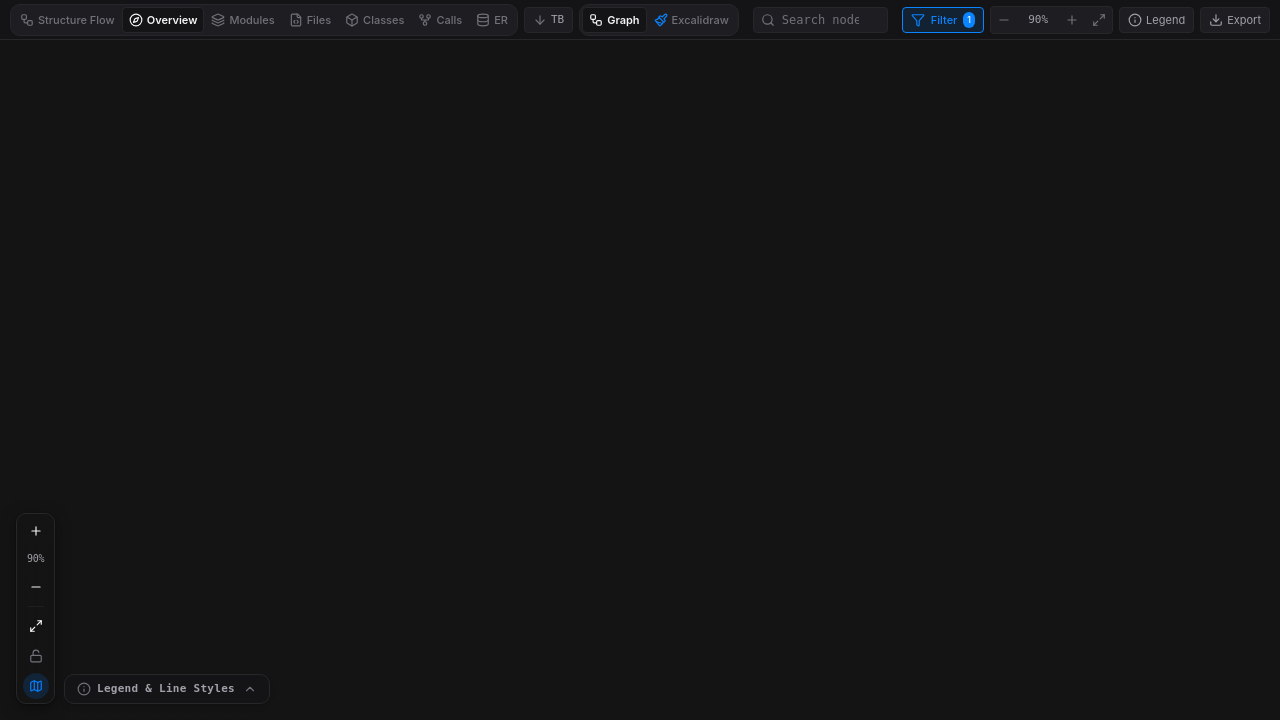
Test: ArchitectureView React Flow Integration › export menu disables PDF option while PDF generation is a stub
This screenshot has width=1280, height=720.
Click the button with aria-label "export diagram": (1235, 20) [1200,6,1270,32]
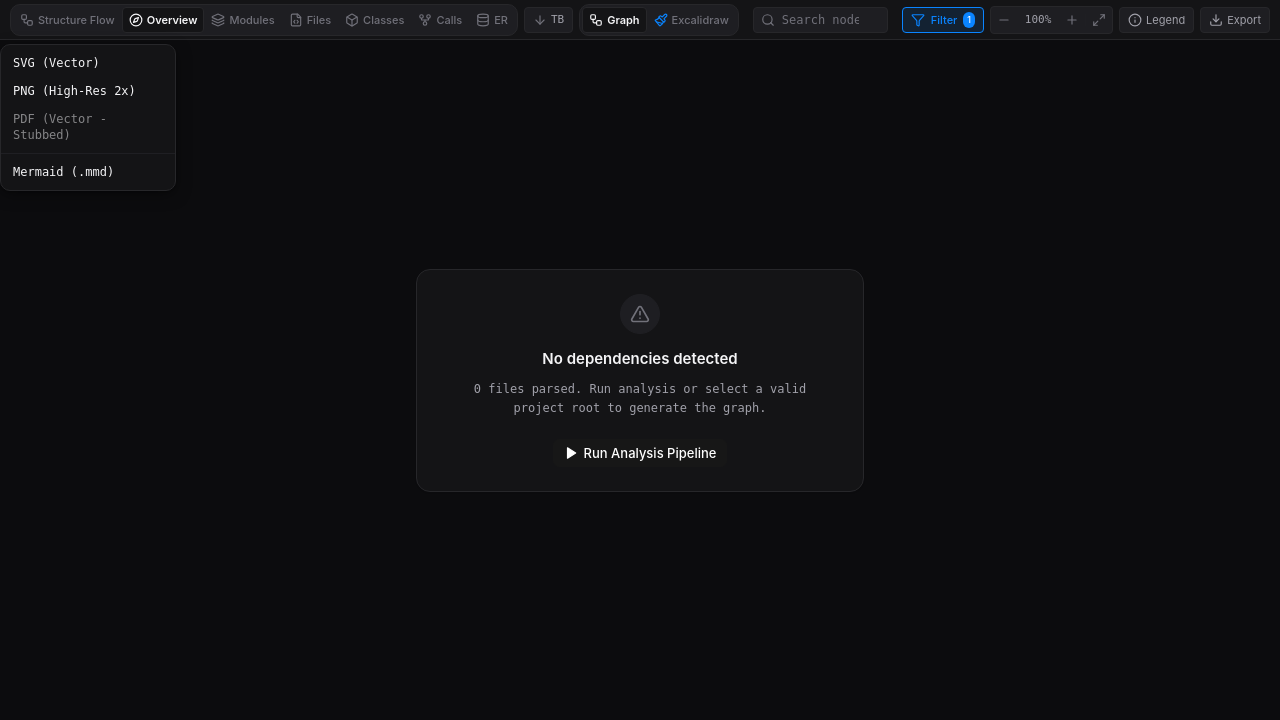
Now the menu item "PDF (Vector - Stubbed)" is disabled, box [5,105,171,149]
Now the menu item "SVG (Vector)" is enabled, box [13,56,100,70]
Now the menu item "PNG (High-Res 2x)" is enabled, box [13,84,136,98]
